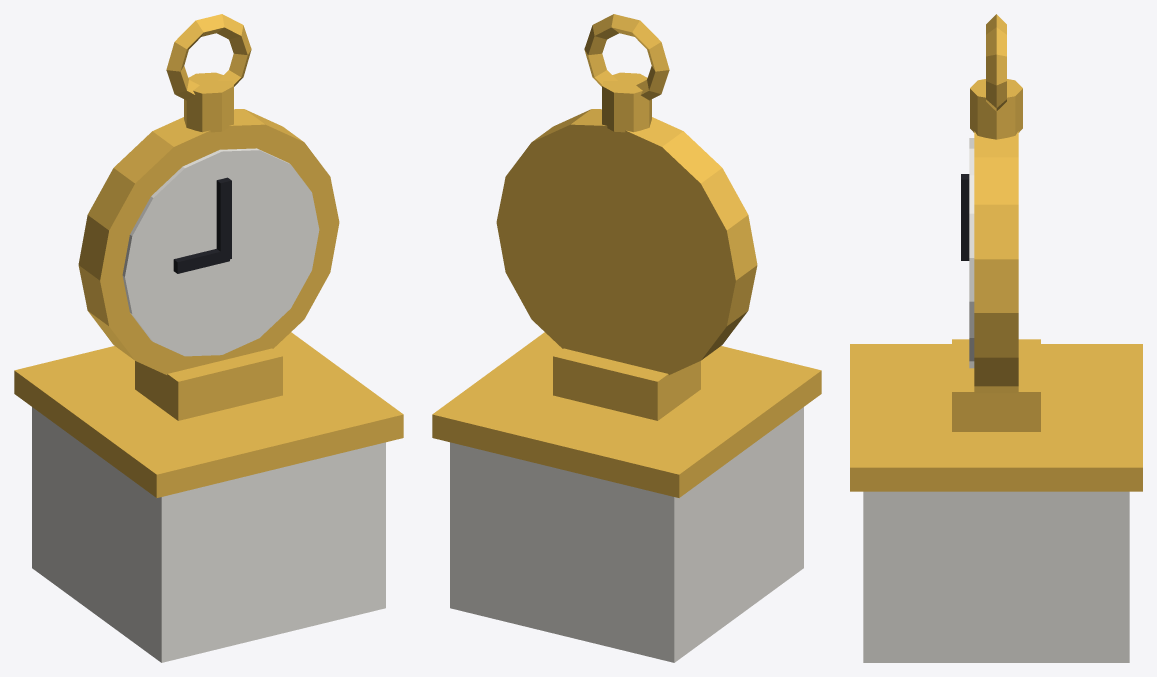
Rendered from mdl_z5_estatua_reloj.fbx.
The picture shows the model from 3 angles, left to right: view 1: azimuth 30°, elevation 25°; view 2: azimuth 150°, elevation 25°; view 3: azimuth 270°, elevation 25°; orthographic projection. The views are drawn at different scales.
Visible parts, largest first — view 1: mdl_z5_estatua_reloj; view 2: mdl_z5_estatua_reloj; view 3: mdl_z5_estatua_reloj.
Part boxes in pixels (x1,y1,x2,y2): mdl_z5_estatua_reloj: (14,14,403,662); mdl_z5_estatua_reloj: (432,14,821,662); mdl_z5_estatua_reloj: (850,14,1142,662).
Bounding box in the file's own units: 330 × 729 × 330.
